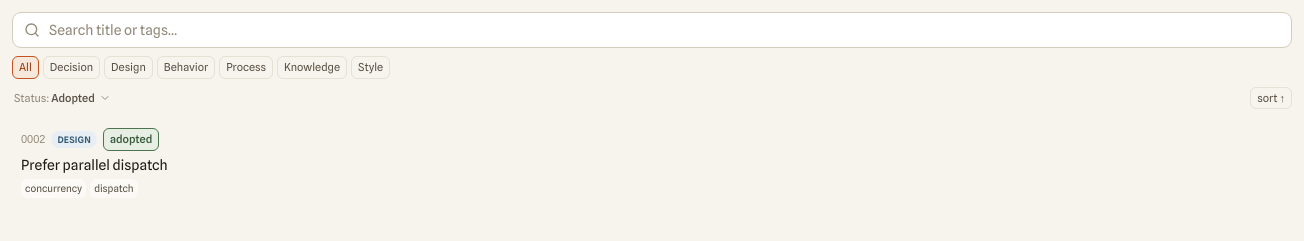
Test: NodesView index (search / filter / sort) › the full status filter set is present (All + four statuses)
Click the button "Status: adopted" at (62, 98), box x1=12 y1=90 x2=113 y2=106
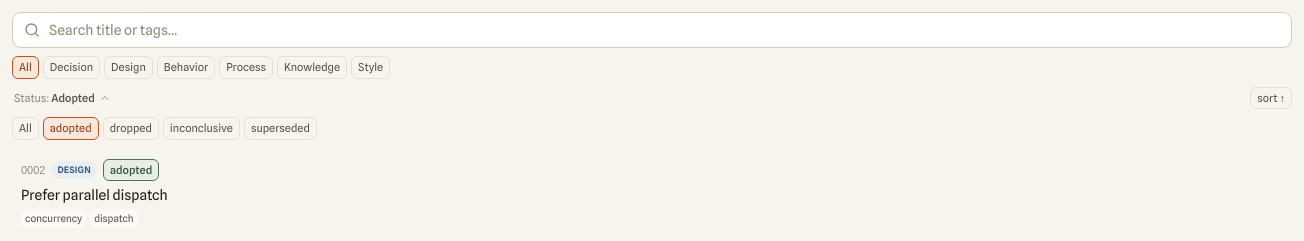
Result: the 2nd radio button labelled "All" is shown at x1=12 y1=117 x2=39 y2=140
Result: the radio button labelled "adopted" is shown at x1=43 y1=117 x2=99 y2=140
Result: the radio button labelled "dropped" is shown at x1=103 y1=117 x2=159 y2=140
